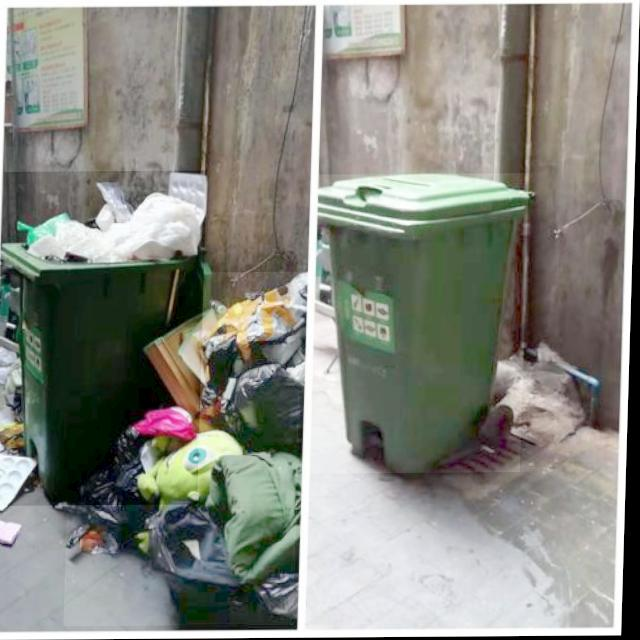garbage: (67, 272, 306, 627), (0, 419, 40, 545)
garbage_bin: (313, 174, 530, 474)
overflow: (0, 171, 208, 506)
